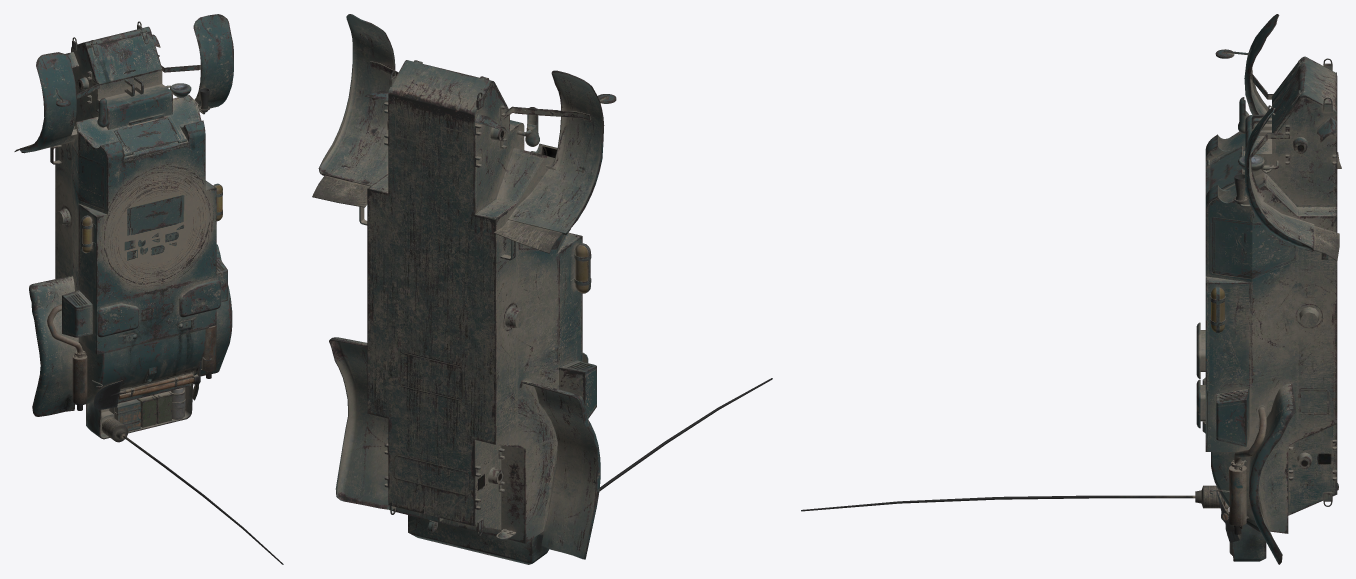
File: Hull.glb
3 renders of one model, left to right at view 1: azimuth 30°, elevation 25°; view 2: azimuth 150°, elevation 25°; view 3: azimuth 270°, elevation 25°, orthographic. The views are drawn at different scales.
Parts seen in each view (by area): view 1: set_0_group_0; view 2: set_0_group_0; view 3: set_0_group_0.
Boxes of the visible parts, left/top/right/bottom form: set_0_group_0: left=14, top=14, right=283, bottom=564; set_0_group_0: left=312, top=14, right=772, bottom=564; set_0_group_0: left=801, top=14, right=1341, bottom=564.
Bounding box in the file's own units: 2.07 × 3.99 × 4.12.
1 material, 1 textured.
